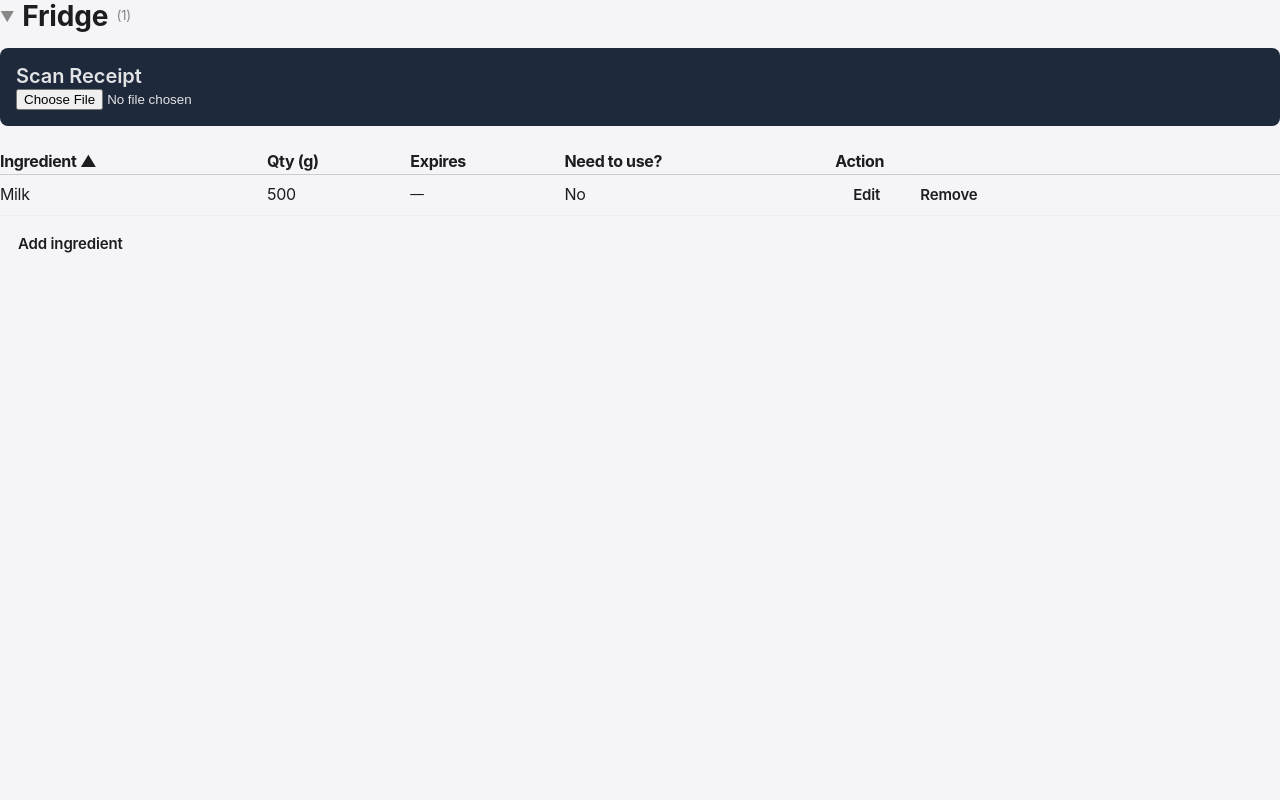
it: Fridge › cancels remove without mutating state
The width and height of the screenshot is (1280, 800).
Check: the text "Milk" is shown, box [0,174,267,215]
Click the button "Remove" at x=949, y=195, box [902,175,996,215]
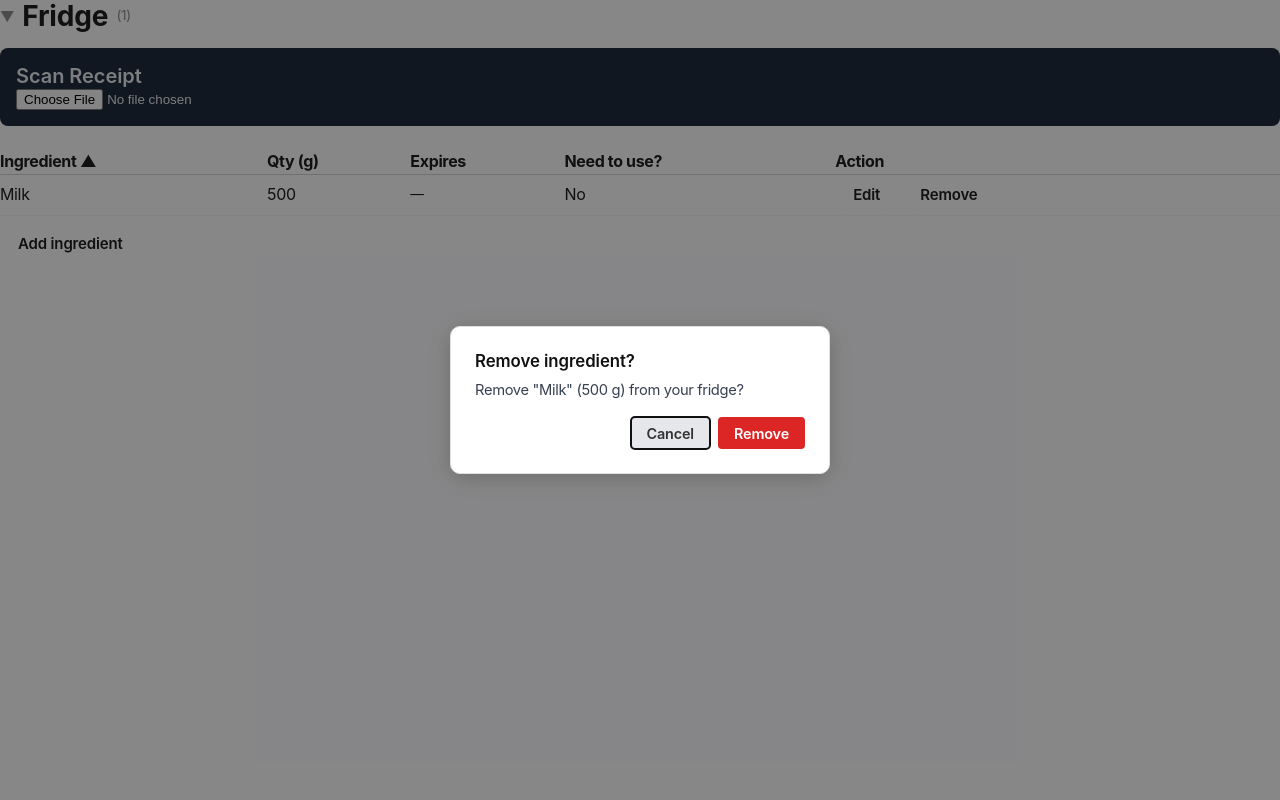
Click the button "Cancel" at x=670, y=433, box [630,417,710,449]
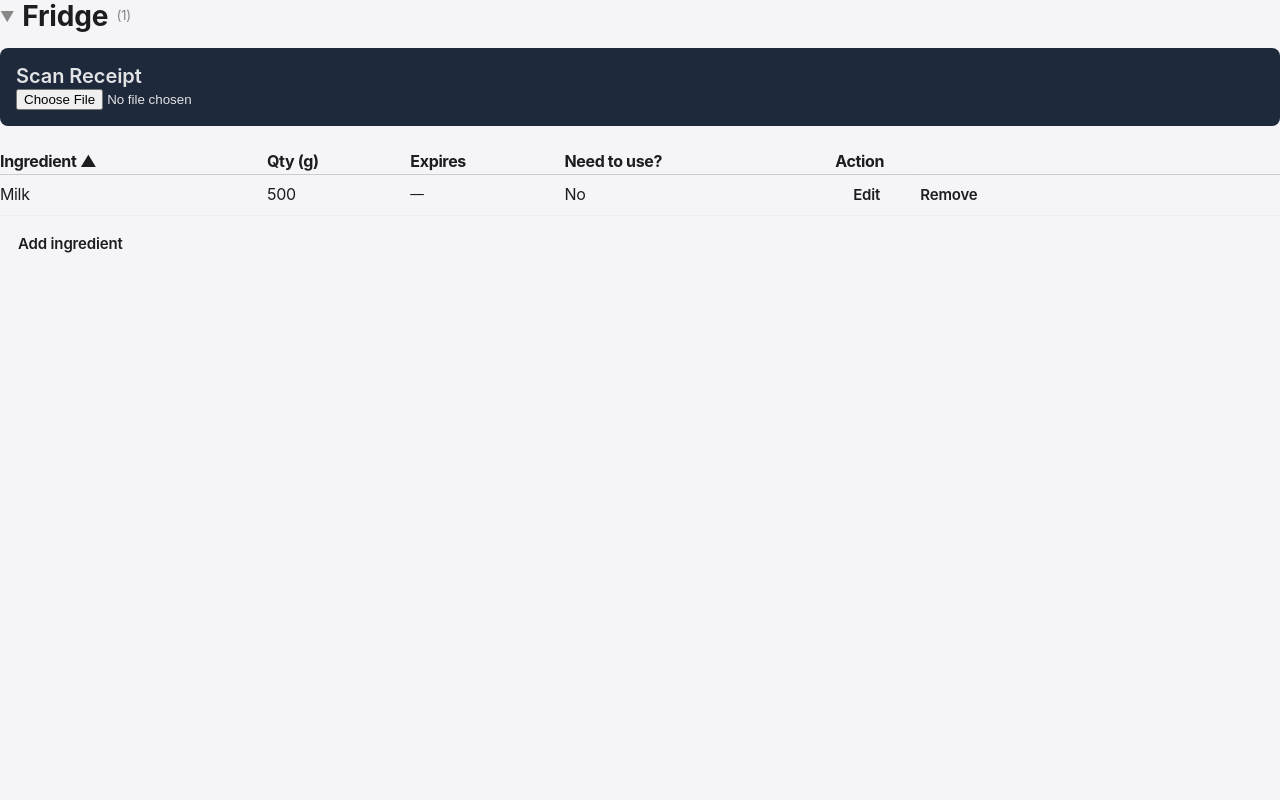
Check: the text "Milk" is shown, box [0,174,267,215]
Check: the dialog is gone
